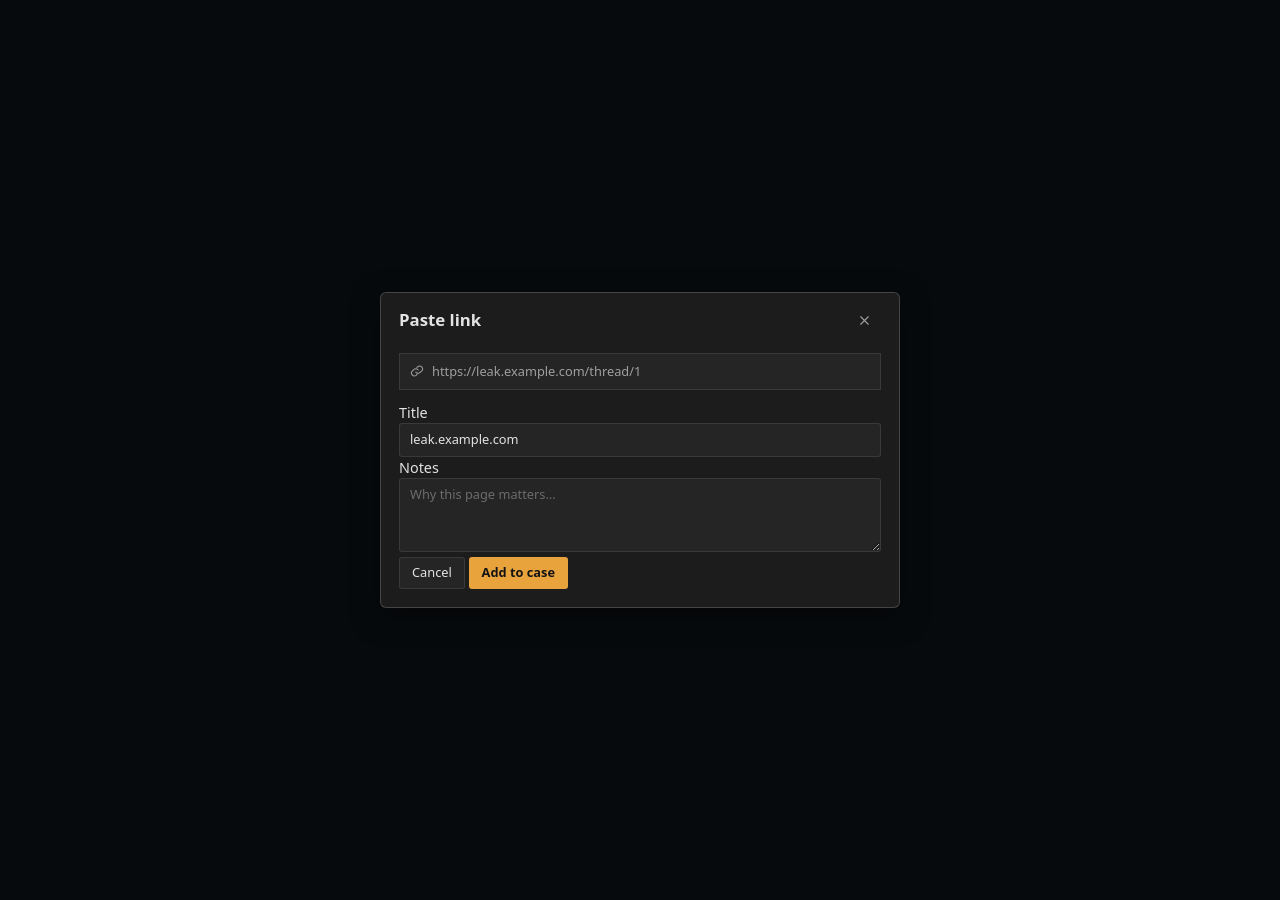
Test case: a pasted link › holds the button once the title is emptied
Clear the field labelled "Title" at {"x": 640, "y": 440}, box [399, 424, 881, 457]
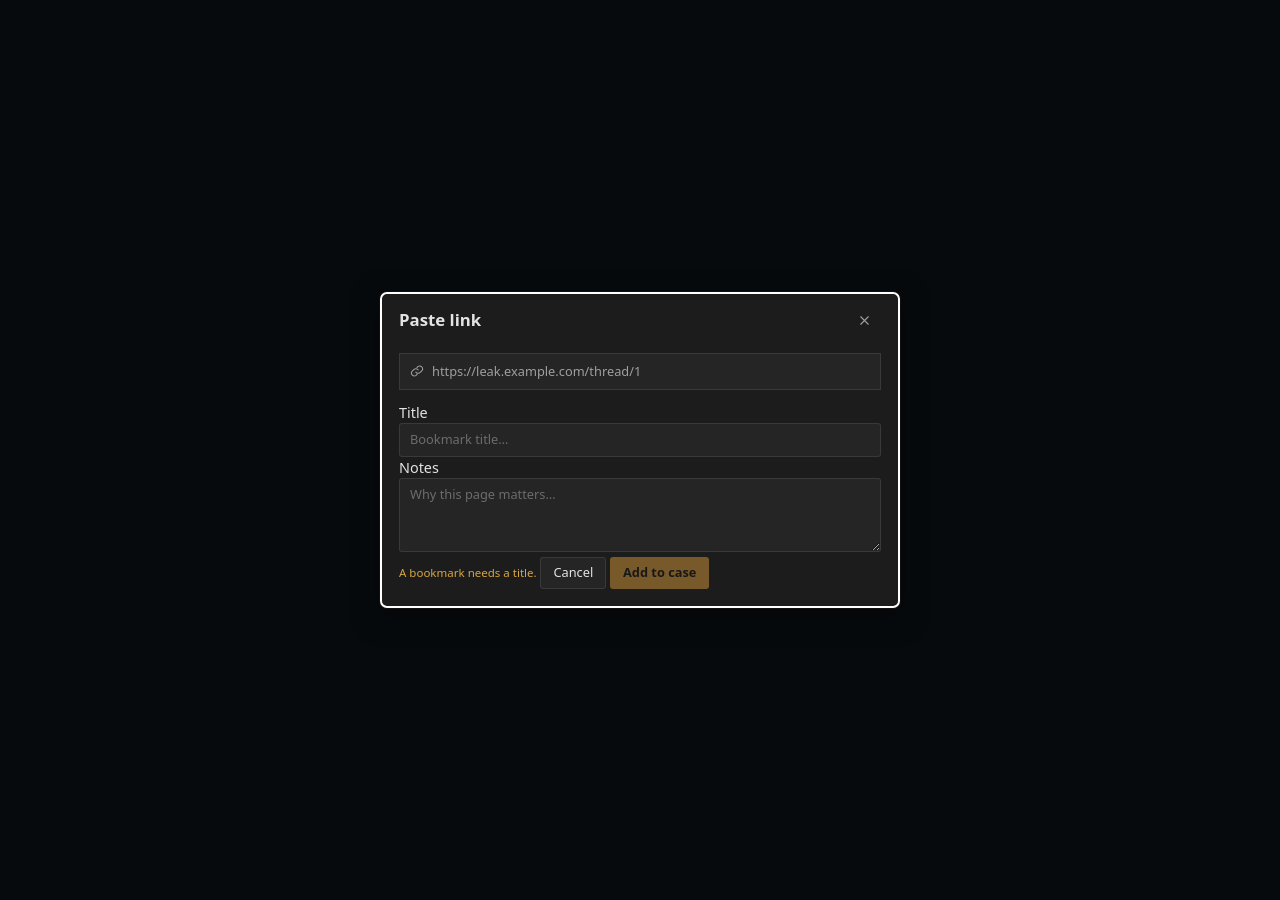
Check: the text "needs a title" is shown, box [399, 565, 537, 580]
Check: the button "Add to case" is disabled, box [610, 557, 709, 588]
